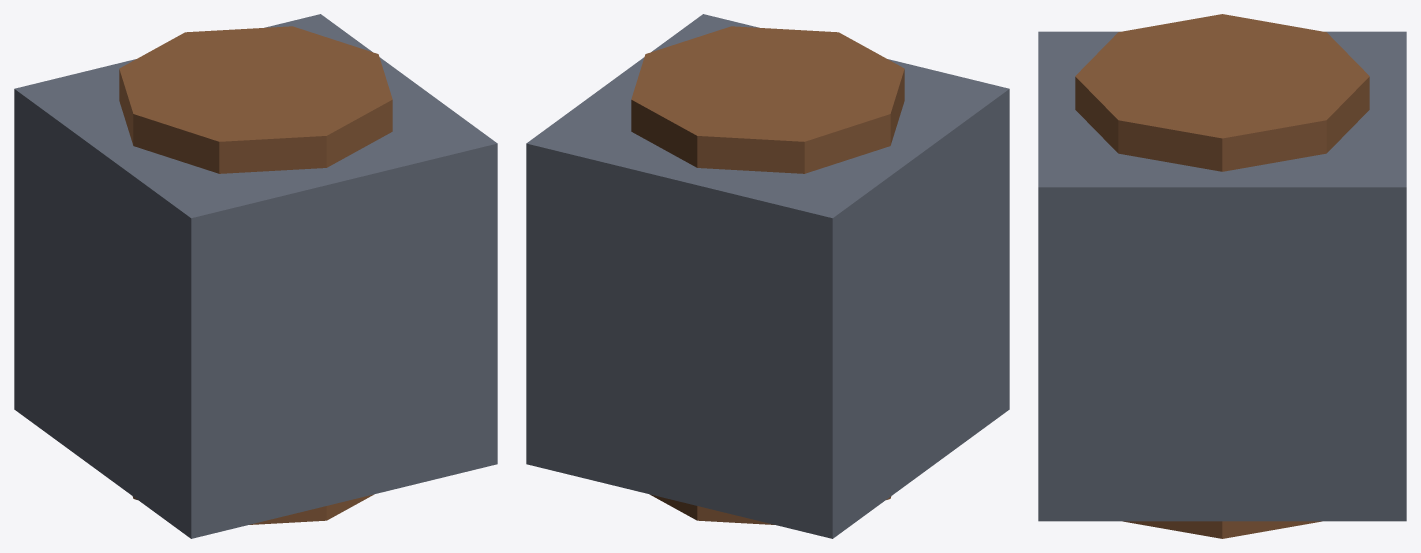
Rendered from machine_pump.glb.
3 views of the same model, side by side, from view 1: azimuth 30°, elevation 25°; view 2: azimuth 150°, elevation 25°; view 3: azimuth 270°, elevation 25° (orthographic). The views are drawn at different scales.
Visible parts, largest first — view 1: base, body; view 2: base, body; view 3: base, body.
Part boxes in pixels (x1=…): base: x1=14, y1=14, x2=497, y2=538; body: x1=119, y1=26, x2=392, y2=524; base: x1=526, y1=14, x2=1009, y2=538; body: x1=631, y1=26, x2=904, y2=524; base: x1=1038, y1=31, x2=1406, y2=521; body: x1=1075, y1=14, x2=1369, y2=538.
Bounding box in the file's own units: 1 × 1.2 × 1.
